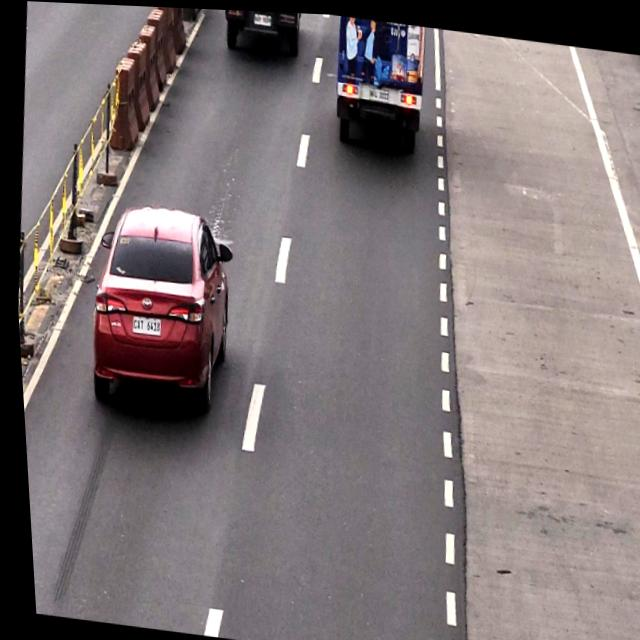Car: (76, 198, 240, 409)
License-Plate: (125, 312, 159, 338), (367, 79, 390, 100)
Truck: (327, 12, 434, 146)
